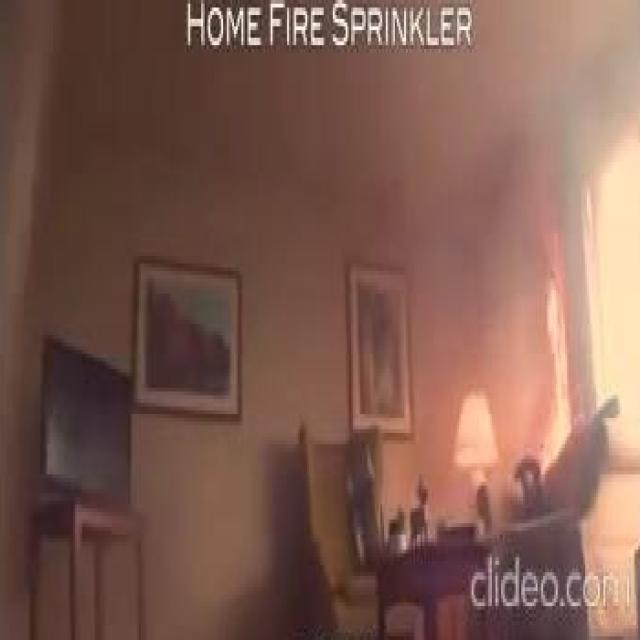smoke: (536, 233, 574, 474)
